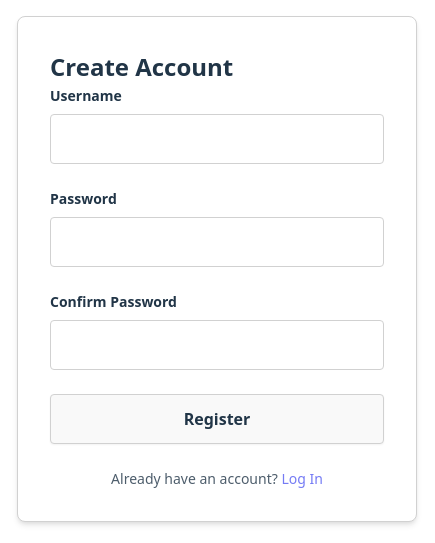
Scenario: SignupForm › disables the submit button while submitting
// --- Act ---
Type "newuser" into the field labelled "Username".
click(217, 139); type("newuser")  # box [50, 114, 384, 164]
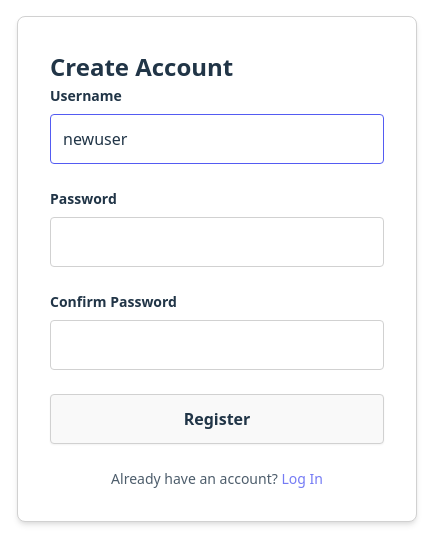
Type "Password1" into the password field labelled "Password".
click(217, 242); type("Password1")  # box [50, 217, 384, 267]
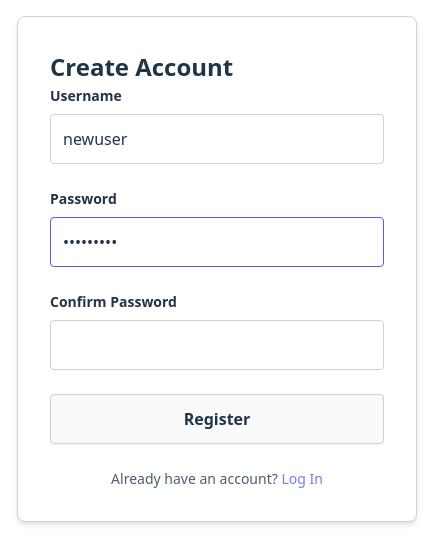
Type "Password1" into the password field labelled "Confirm Password".
click(217, 345); type("Password1")  # box [50, 320, 384, 370]
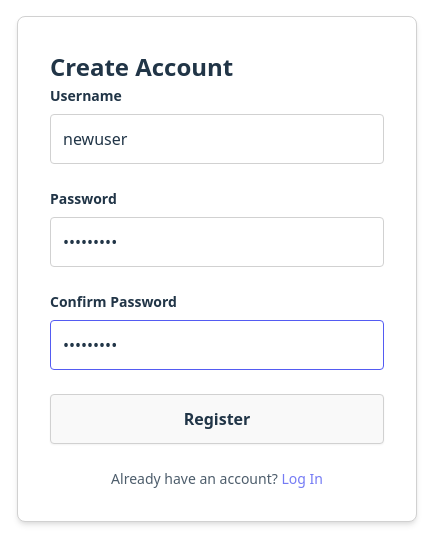
Click the button "Register".
click(217, 419)  # box [50, 394, 384, 444]
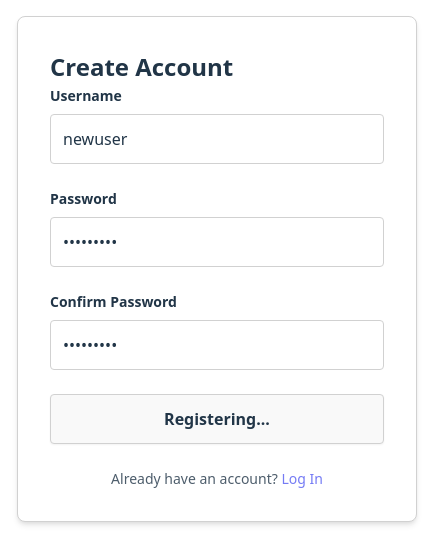
Expected: the button "Registering..." is disabled, [50, 394, 384, 444]
